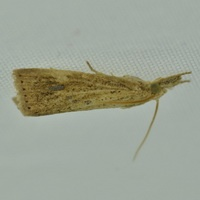insect: (12, 61, 190, 129)
